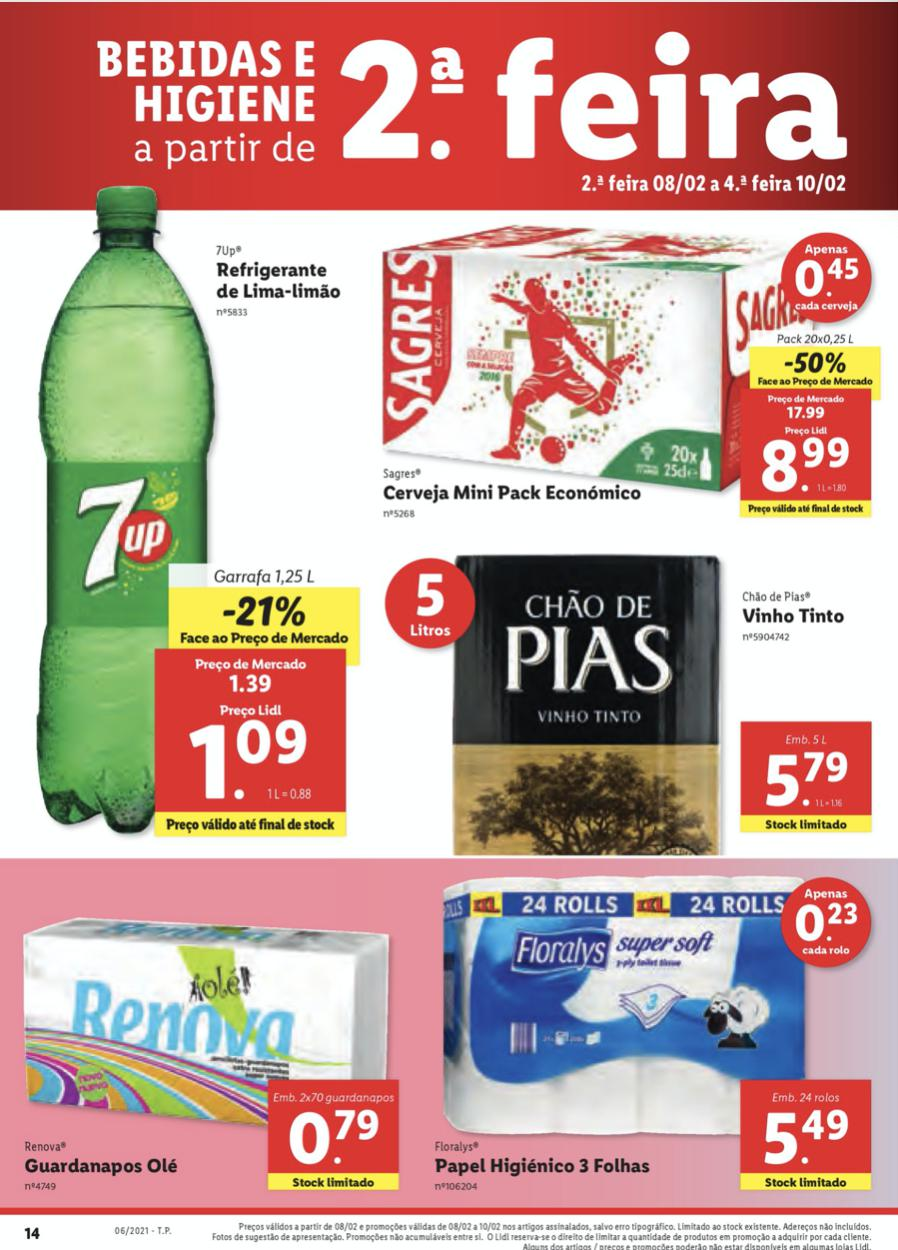name: (383, 475, 650, 512), (429, 1150, 658, 1186), (207, 260, 347, 312), (24, 1153, 181, 1184), (737, 603, 853, 632)
price: (180, 696, 321, 807), (277, 1089, 395, 1178), (753, 1087, 858, 1175), (755, 730, 860, 816), (749, 424, 863, 500), (777, 349, 849, 380)
product: (26, 180, 357, 844), (390, 527, 884, 858), (372, 220, 884, 527), (426, 875, 881, 1198), (12, 880, 401, 1196)
promotion: (223, 589, 310, 632)
